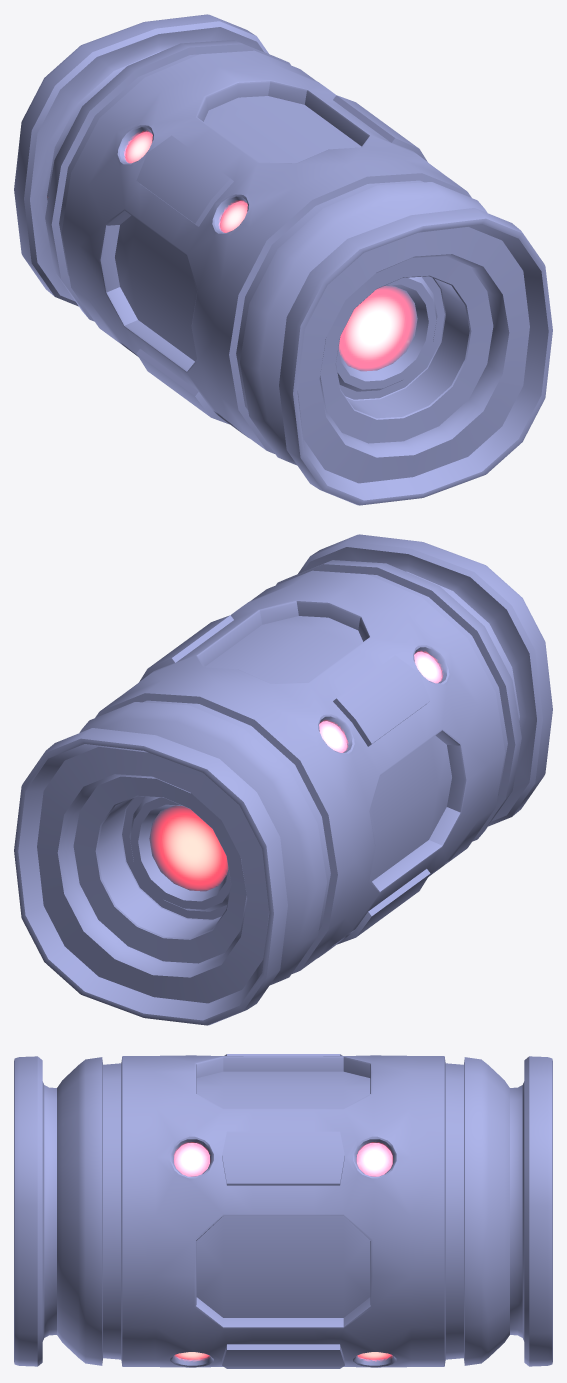
File: PowerPod.fbx
The picture shows the model from 3 angles, top to bottom: view 1: azimuth 30°, elevation 25°; view 2: azimuth 150°, elevation 25°; view 3: azimuth 270°, elevation 25°; orthographic projection. The views are drawn at different scales.
Visible parts, largest first — view 1: PowerPod; view 2: PowerPod; view 3: PowerPod.
Part boxes in pixels (box(x1,y1,x2,y2)): PowerPod: box(14, 14, 552, 505); PowerPod: box(14, 534, 552, 1025); PowerPod: box(14, 1054, 552, 1368).
Size of the model in its own units: 25.06 by 25.06 by 43.94.
